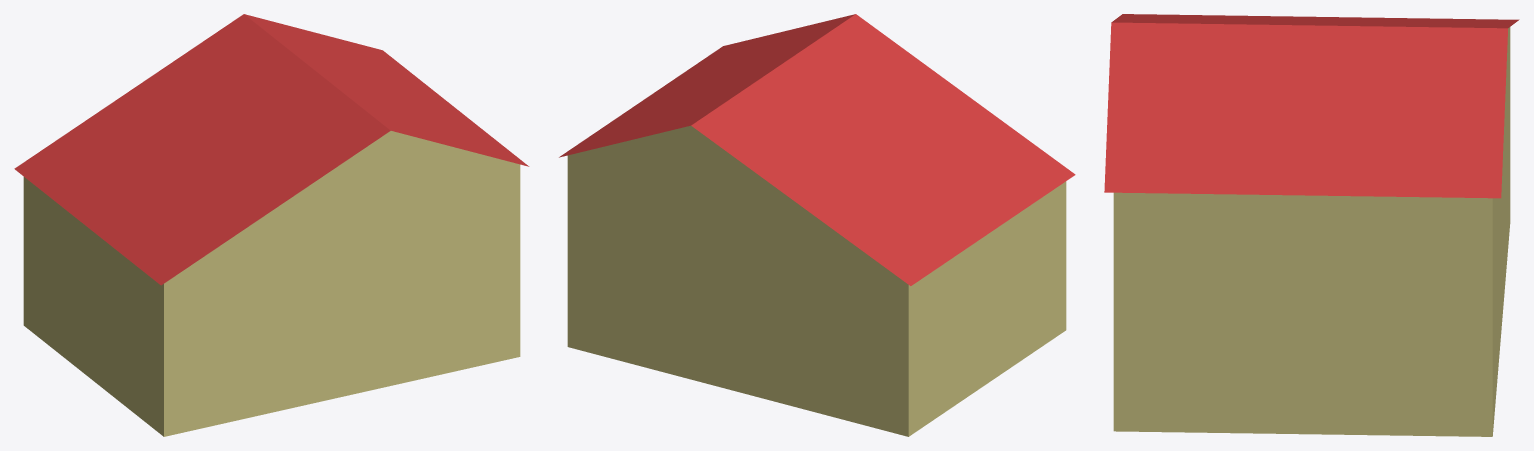
3 views of the same model, side by side, from view 1: azimuth 30°, elevation 25°; view 2: azimuth 150°, elevation 25°; view 3: azimuth 270°, elevation 25° (orthographic). The views are drawn at different scales.
Size of the model in its own units: 15.44 by 11.8 by 10.29.
